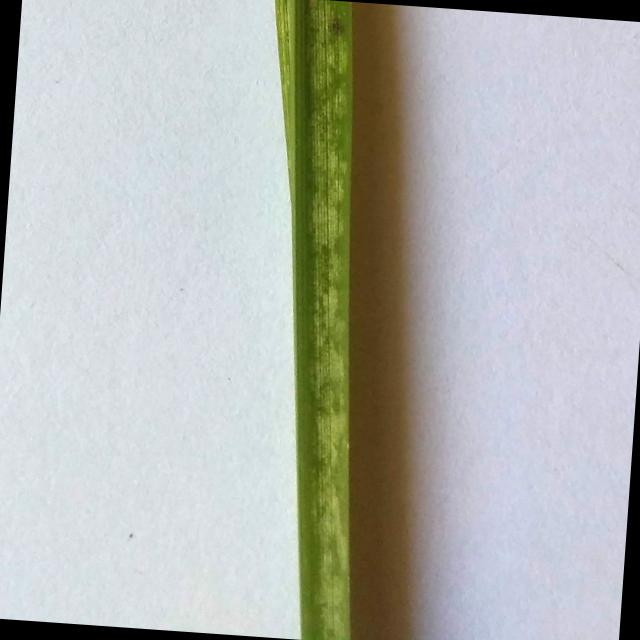Rice_Healthy: (274, 0, 352, 640)
